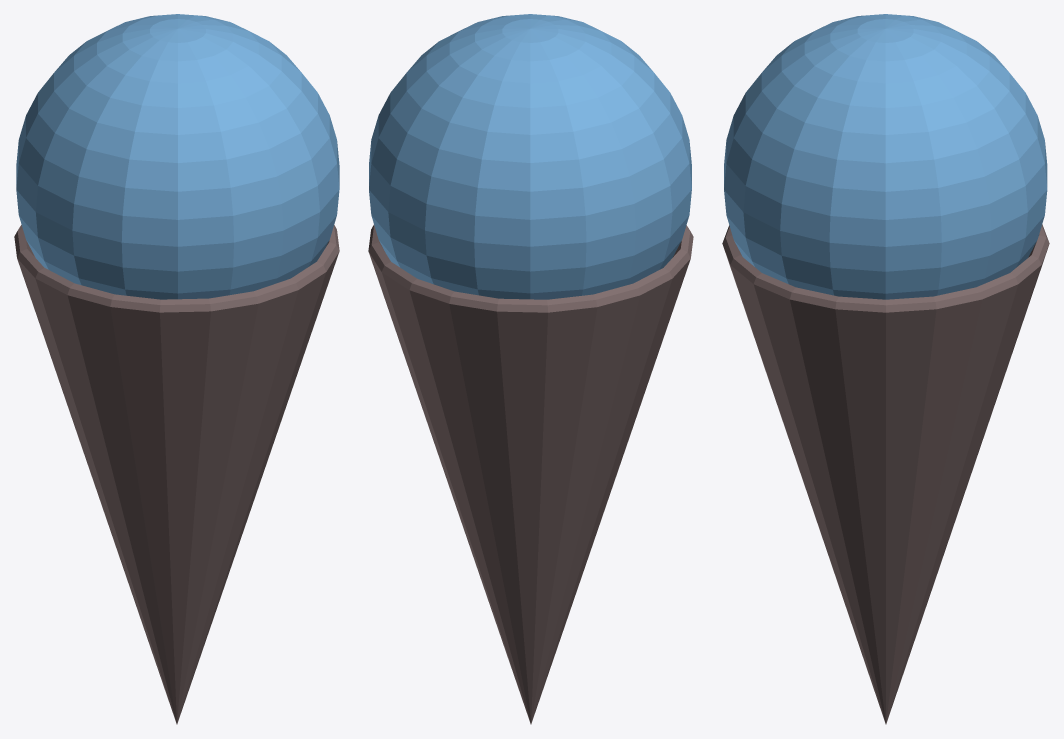
File: Ice_cream_03.fbx
3 views of the same model, side by side, from view 1: azimuth 30°, elevation 25°; view 2: azimuth 150°, elevation 25°; view 3: azimuth 270°, elevation 25° (orthographic).
Parts seen in each view (by area): view 1: pCone9; view 2: pCone9; view 3: pCone9.
Boxes of the visible parts, x1,y1,x2,y2 form: pCone9: (14, 14, 339, 724); pCone9: (368, 14, 693, 724); pCone9: (722, 14, 1049, 724).
Bounding box in the file's own units: 123 × 287 × 122.
